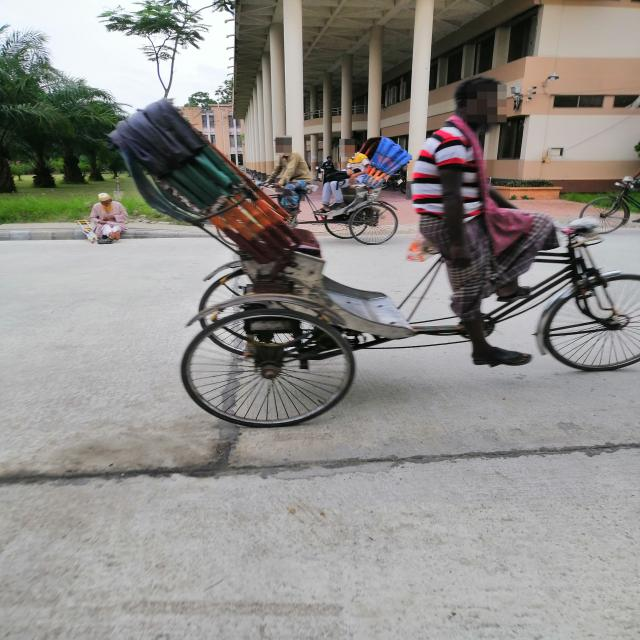Auto-Rickshaw: (88, 76, 640, 465), (181, 114, 442, 267)
